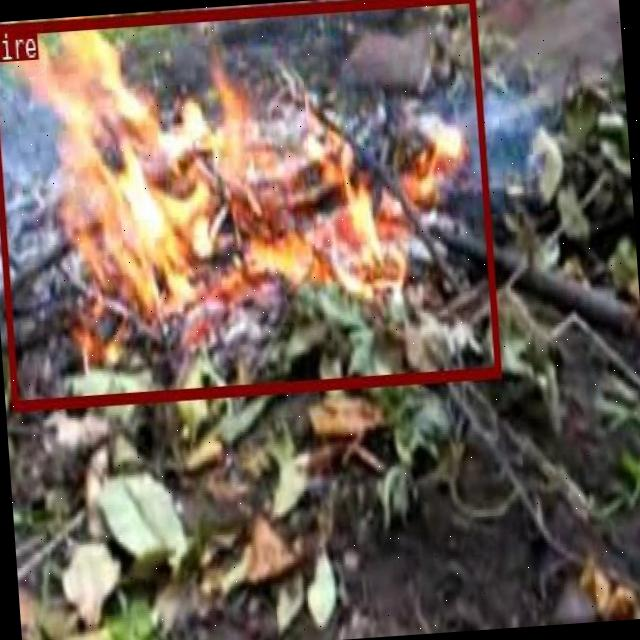fire: (0, 0, 500, 409)
